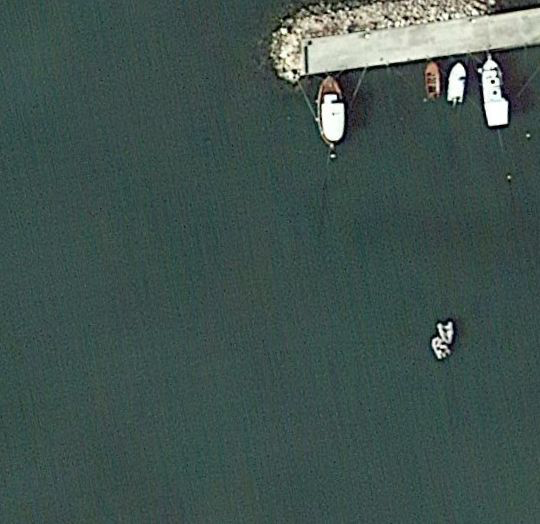boat: (312, 76, 353, 148), (479, 51, 513, 129), (429, 319, 460, 364), (446, 60, 471, 105), (421, 62, 442, 104)
